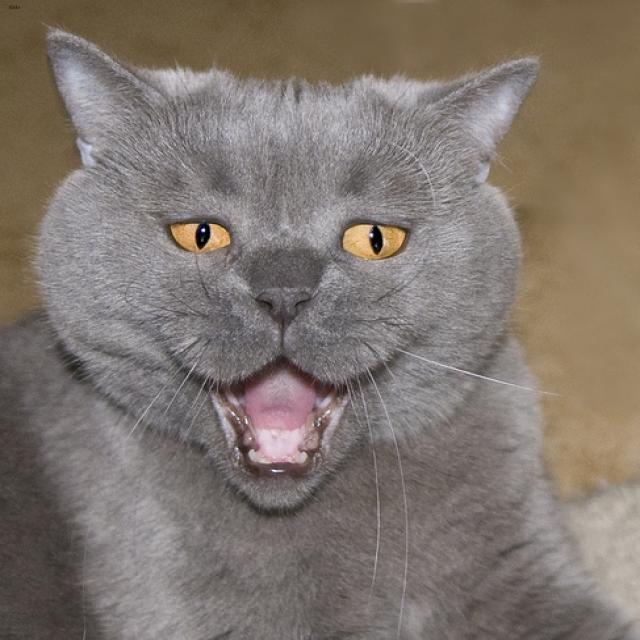British_Shorthair: (24, 21, 554, 523)
